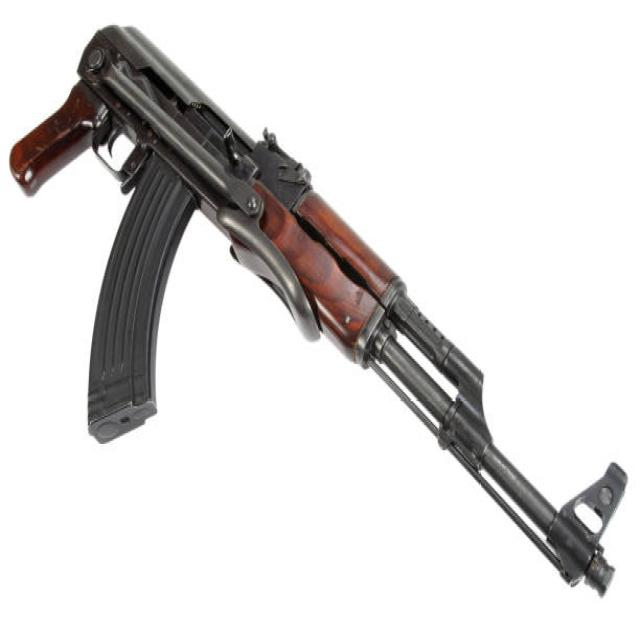rifle: (6, 19, 636, 605)
